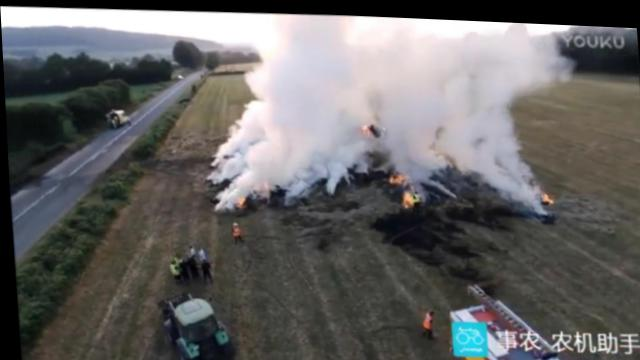fire: (399, 187, 412, 204), (385, 170, 401, 181), (540, 186, 550, 196)
